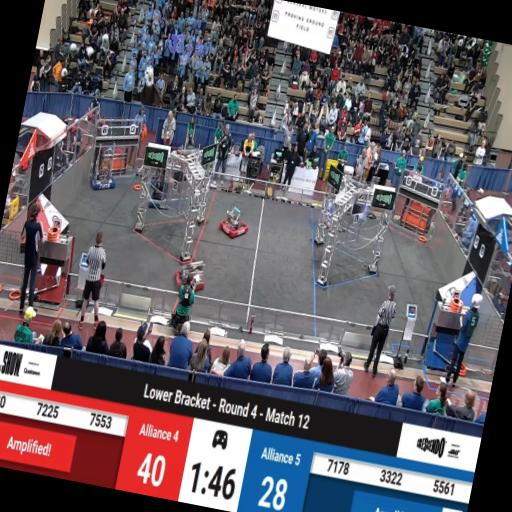robot: (88, 141, 123, 196), (174, 256, 209, 293), (218, 205, 250, 241)
